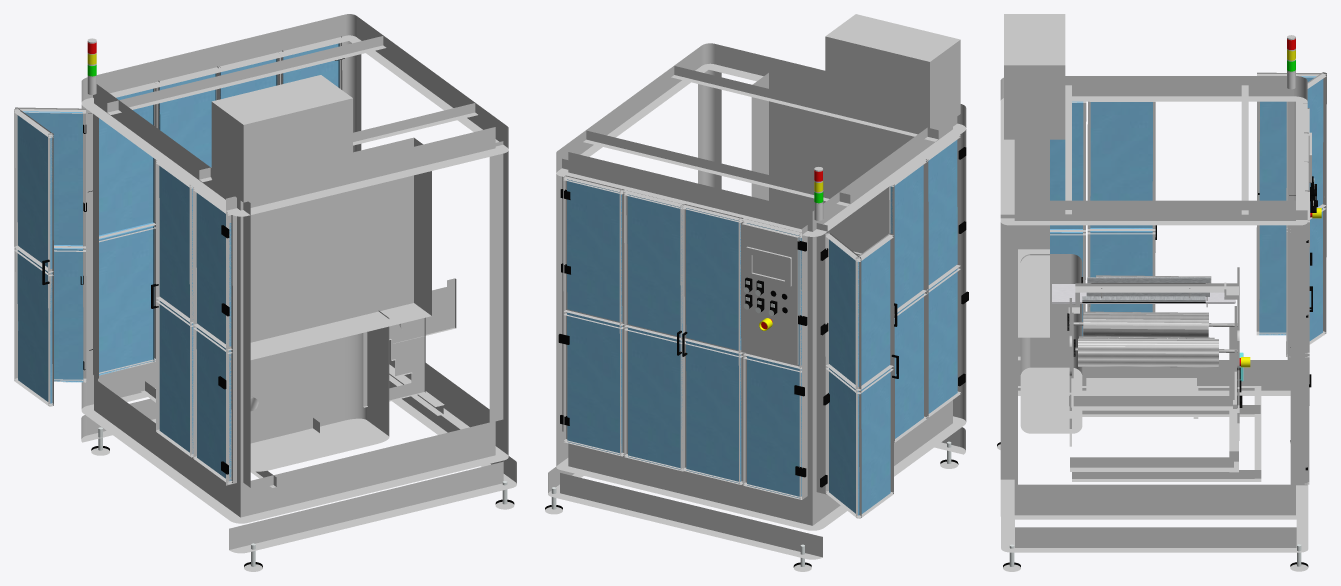
Rendered from saa.glb.
3 views of the same model, side by side, from view 1: azimuth 30°, elevation 25°; view 2: azimuth 150°, elevation 25°; view 3: azimuth 270°, elevation 25° (orthographic). The views are drawn at different scales.
Parts seen in each view (by area): view 1: Geom3D (×13), Geom3D_元件#59 (×2), Geom3D_元件#56, Geom3D_元件#57, Geom3D_元件#21, Geom3D_元件#19 (×9), Geom3D_元件#55, Geom3D_元件#52, Geom3D_元件#23, Geom3D_元件#15; view 2: Geom3D (×15), Geom3D_元件#59 (×2), Geom3D_元件#56, Geom3D_元件#19 (×15), Geom3D_元件#57, Geom3D_元件#55, Geom3D_元件#85, Geom3D_元件#86; view 3: Geom3D_元件#56, Geom3D (×8), Geom3D_元件#57, Geom3D_元件#59 (×2), Geom3D_元件#55, Geom3D_元件#21, Geom3D_元件#19 (×10), Geom3D_元件#15, Geom3D_元件#48, Geom3D_元件#25, Geom3D_元件#17 (×2), Geom3D_元件#22 (+6 smaller).
Boxes of the visible parts, x1,y1,x2,y2 form: Geom3D (×13): (17,43,339,480); Geom3D_元件#59 (×2): (211,75,431,359); Geom3D_元件#56: (81,25,508,523); Geom3D_元件#57: (81,14,508,216); Geom3D_元件#21: (250,310,389,471); Geom3D_元件#19 (×9): (14,36,478,484); Geom3D_元件#55: (81,381,516,553); Geom3D_元件#52: (363,317,425,407); Geom3D_元件#23: (393,278,456,343); Geom3D_元件#15: (304,354,444,435); Geom3D (×15): (567,140,957,515); Geom3D_元件#59 (×2): (751,14,960,255); Geom3D_元件#56: (556,63,966,530); Geom3D_元件#19 (×15): (563,66,961,518); Geom3D_元件#57: (556,43,966,236); Geom3D_元件#55: (548,427,965,559); Geom3D_元件#85: (741,223,798,365); Geom3D_元件#86: (745,246,791,287); Geom3D_元件#56: (1000,90,1307,519); Geom3D (×8): (1050,76,1323,340); Geom3D_元件#57: (1000,76,1307,225); Geom3D_元件#59 (×2): (1004,14,1065,337); Geom3D_元件#55: (1001,485,1308,552); Geom3D_元件#21: (1020,254,1082,433); Geom3D_元件#19 (×10): (1065,72,1326,484); Geom3D_元件#15: (1069,327,1238,472); Geom3D_元件#48: (1078,338,1218,367); Geom3D_元件#25: (1083,311,1208,337); Geom3D_元件#17 (×2): (1072,405,1261,481); Geom3D_元件#22: (1086,376,1196,395).
Size of what is drawn, in the model's own units: 1.69 by 2.09 by 1.46.
13 materials, 5 textured.
